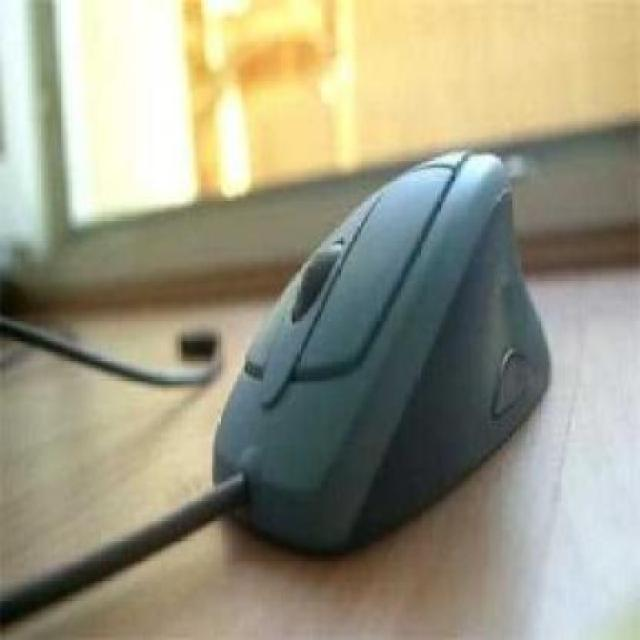mause: (150, 165, 582, 568)
